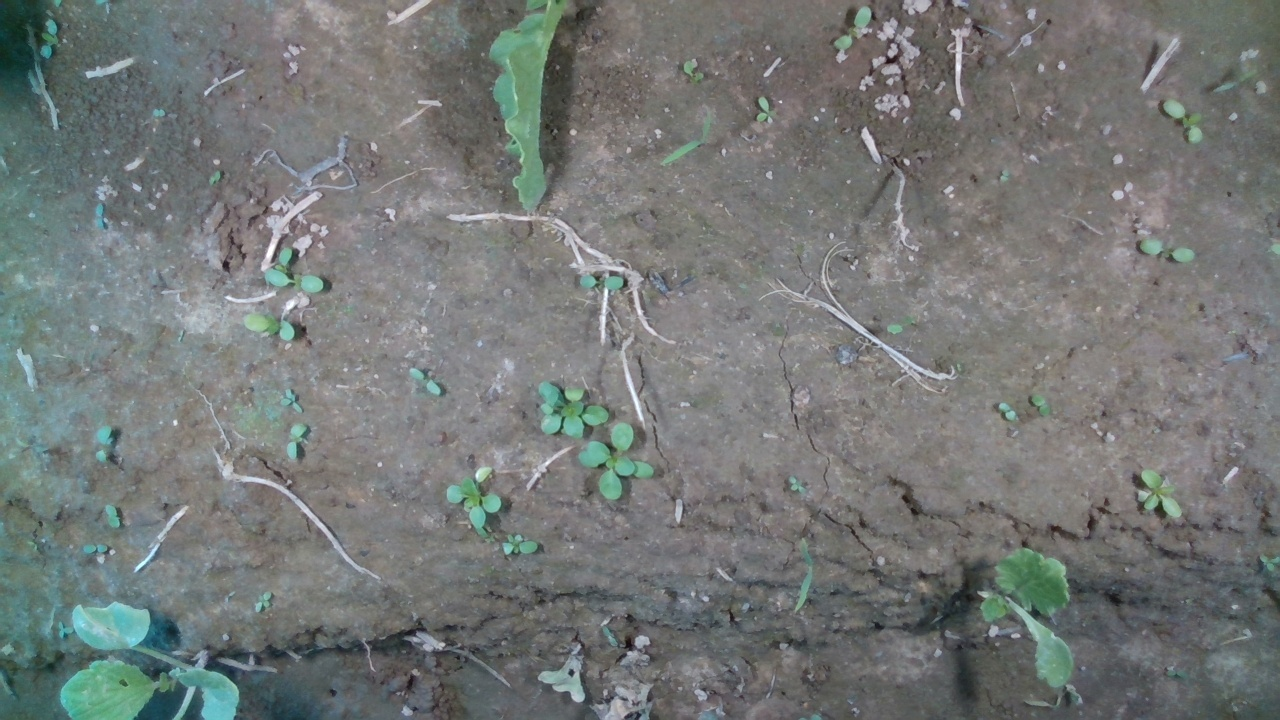weed: (1136, 466, 1184, 519), (1160, 99, 1203, 146), (833, 6, 871, 52), (241, 310, 296, 341), (1137, 237, 1199, 262), (405, 366, 444, 397), (499, 531, 541, 556), (284, 423, 309, 460), (93, 423, 115, 465), (38, 18, 60, 58), (577, 273, 624, 290), (753, 94, 776, 125), (280, 386, 304, 415), (103, 504, 122, 531), (1029, 395, 1050, 417), (997, 403, 1020, 421), (83, 543, 110, 553)
